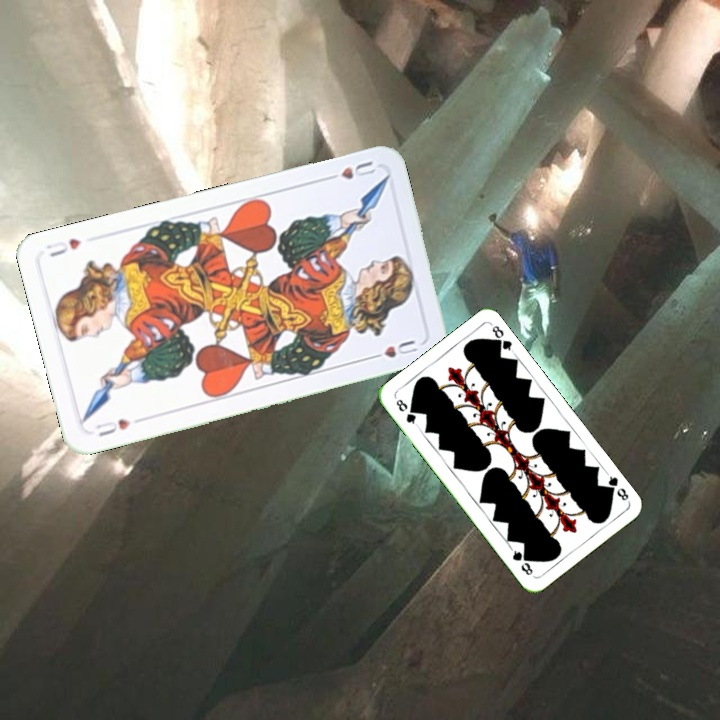G8: (601, 469, 632, 504), (392, 395, 419, 426)
HU: (321, 157, 378, 185), (91, 415, 133, 439)
